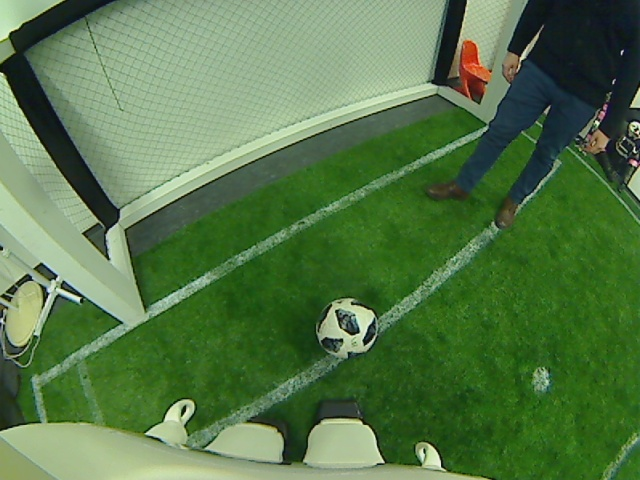ball: (313, 293, 378, 359)
